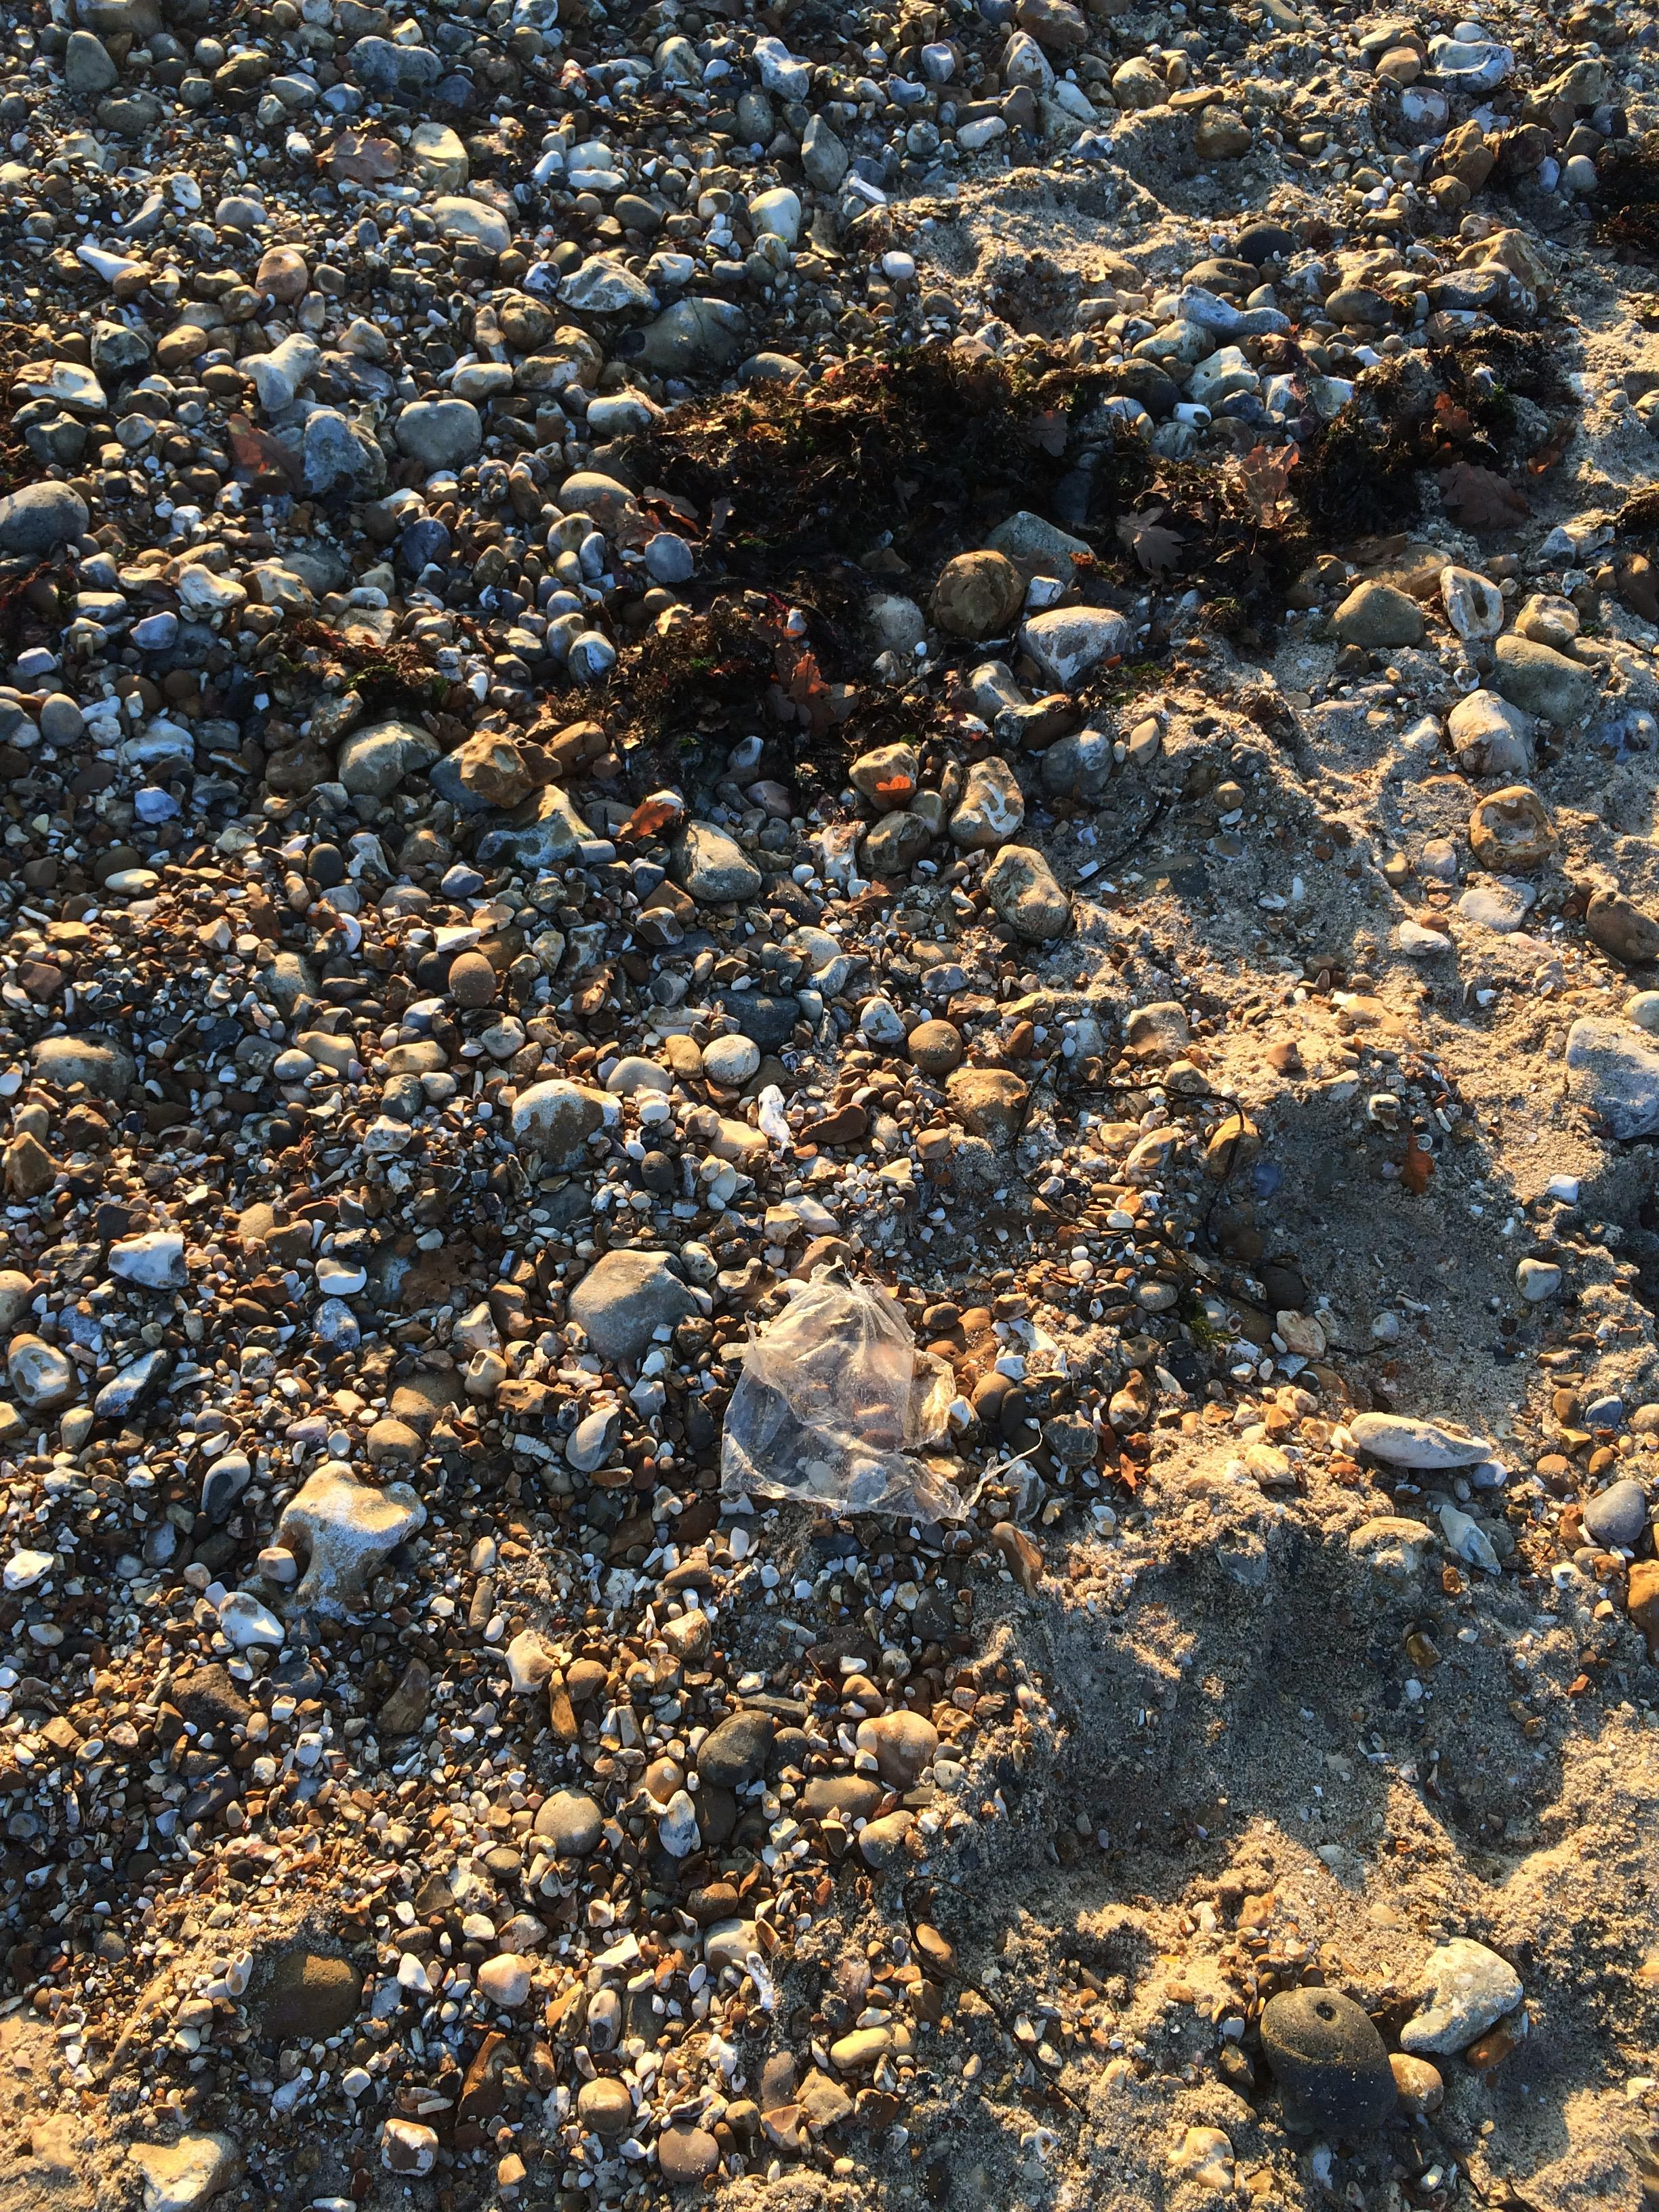Trash: (721, 1254, 910, 1526)
